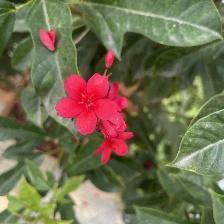jatropha: (56, 73, 120, 135)
